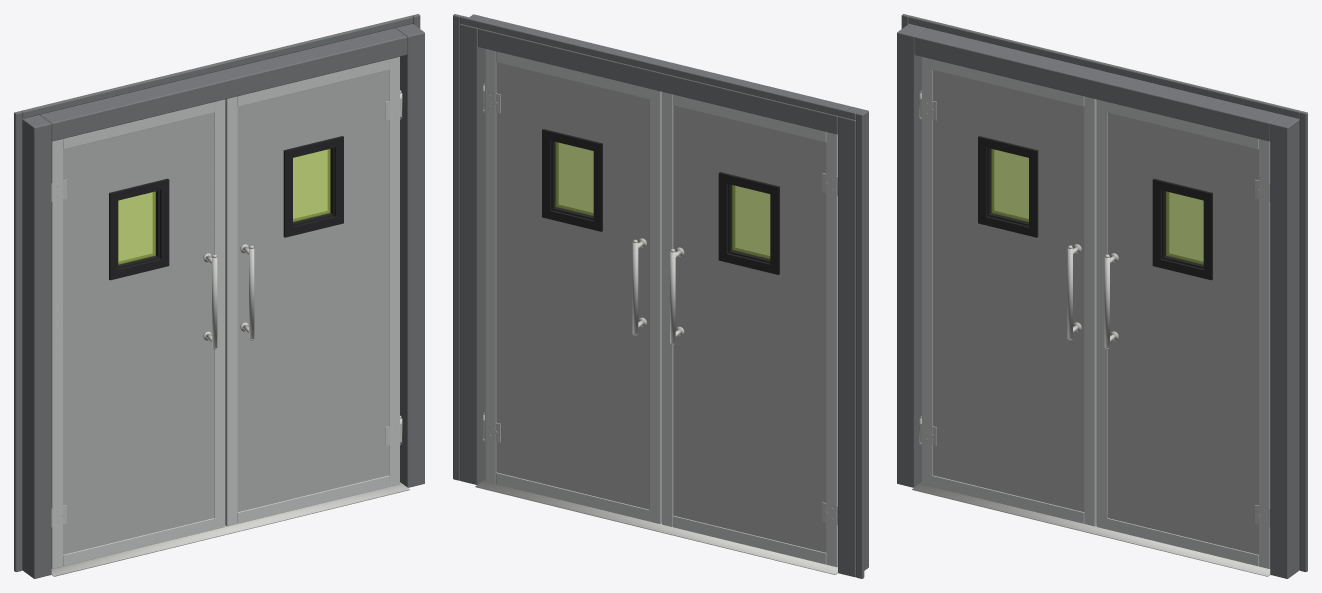
File: lab_door.glb
3 views of the same model, side by side, from view 1: azimuth 30°, elevation 25°; view 2: azimuth 150°, elevation 25°; view 3: azimuth 330°, elevation 25° (orthographic).
Visible parts, largest first — view 1: labDoorLeafRightSlab, labDoorLeafLeftSlab, LabDoorFrameBody, labDoorLeafRightRim, labDoorLeafLeftRim, labDoorLeafLeftBezel, labDoorLeafRightBezel, LabDoorHingeBarrels, labDoorLeafLeftGlass, labDoorLeafRightGlass, labDoorLeafLeftHandles, labDoorLeafRightHandles; view 2: labDoorLeafRightSlab, labDoorLeafLeftSlab, LabDoorFrameBody, labDoorLeafRightRim, labDoorLeafLeftRim, labDoorLeafLeftBezel, labDoorLeafRightBezel, LabDoorHingeBarrels, labDoorLeafLeftGlass, labDoorLeafRightGlass, labDoorLeafRightHandles, labDoorLeafLeftHandles; view 3: labDoorLeafLeftSlab, labDoorLeafRightSlab, LabDoorFrameBody, labDoorLeafLeftRim, labDoorLeafRightRim, labDoorLeafRightBezel, labDoorLeafLeftBezel, LabDoorHingeBarrels, labDoorLeafRightGlass, labDoorLeafLeftGlass, labDoorLeafLeftHandles, labDoorLeafRightHandles.
Part boxes in pixels (x1=…): labDoorLeafRightSlab: x1=225, y1=70, x2=388, y2=525; labDoorLeafLeftSlab: x1=51, y1=113, x2=214, y2=568; LabDoorFrameBody: x1=14, y1=14, x2=424, y2=578; labDoorLeafRightRim: x1=226, y1=56, x2=399, y2=526; labDoorLeafLeftRim: x1=52, y1=99, x2=225, y2=568; labDoorLeafLeftBezel: x1=109, y1=178, x2=169, y2=280; labDoorLeafRightBezel: x1=283, y1=136, x2=343, y2=237; LabDoorHingeBarrels: x1=51, y1=90, x2=409, y2=576; labDoorLeafLeftGlass: x1=118, y1=191, x2=155, y2=264; labDoorLeafRightGlass: x1=293, y1=149, x2=330, y2=221; labDoorLeafLeftHandles: x1=203, y1=253, x2=217, y2=349; labDoorLeafRightHandles: x1=240, y1=244, x2=254, y2=340; labDoorLeafRightSlab: x1=496, y1=62, x2=661, y2=523; labDoorLeafLeftSlab: x1=673, y1=105, x2=837, y2=566; LabDoorFrameBody: x1=453, y1=14, x2=868, y2=578; labDoorLeafRightRim: x1=485, y1=48, x2=660, y2=523; labDoorLeafLeftRim: x1=662, y1=92, x2=837, y2=567; labDoorLeafLeftBezel: x1=718, y1=172, x2=779, y2=274; labDoorLeafRightBezel: x1=542, y1=129, x2=602, y2=231; LabDoorHingeBarrels: x1=475, y1=83, x2=837, y2=574; labDoorLeafLeftGlass: x1=732, y1=185, x2=770, y2=258; labDoorLeafRightGlass: x1=555, y1=142, x2=593, y2=215; labDoorLeafRightHandles: x1=632, y1=238, x2=646, y2=335; labDoorLeafLeftHandles: x1=670, y1=247, x2=684, y2=345; labDoorLeafLeftSlab: x1=933, y1=70, x2=1096, y2=525; labDoorLeafRightSlab: x1=1107, y1=113, x2=1270, y2=568; LabDoorFrameBody: x1=897, y1=14, x2=1307, y2=578; labDoorLeafLeftRim: x1=922, y1=56, x2=1095, y2=526; labDoorLeafRightRim: x1=1096, y1=99, x2=1269, y2=568; labDoorLeafRightBezel: x1=1152, y1=178, x2=1212, y2=280; labDoorLeafLeftBezel: x1=978, y1=136, x2=1038, y2=237; LabDoorHingeBarrels: x1=912, y1=90, x2=1270, y2=576; labDoorLeafRightGlass: x1=1166, y1=191, x2=1203, y2=264; labDoorLeafLeftGlass: x1=991, y1=149, x2=1028, y2=221; labDoorLeafLeftHandles: x1=1067, y1=244, x2=1081, y2=340; labDoorLeafRightHandles: x1=1104, y1=253, x2=1118, y2=349.
Bounding box in the file's own units: 2.06 × 2.23 × 0.205.
